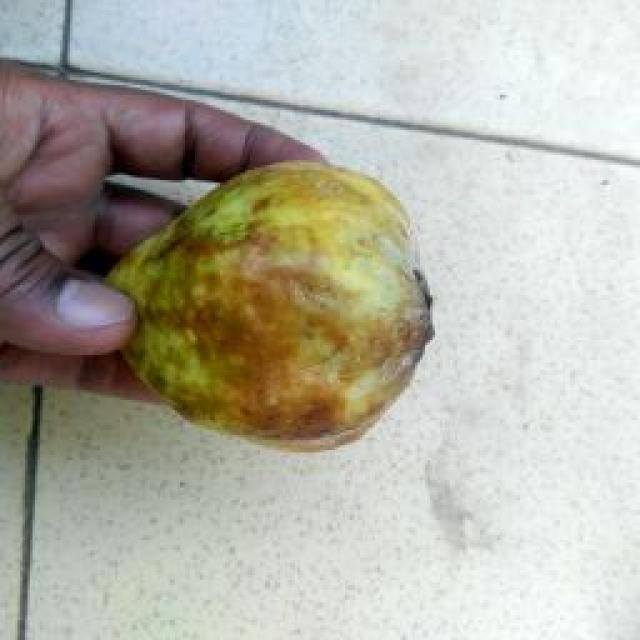Bad_Guava: (106, 161, 432, 449)
